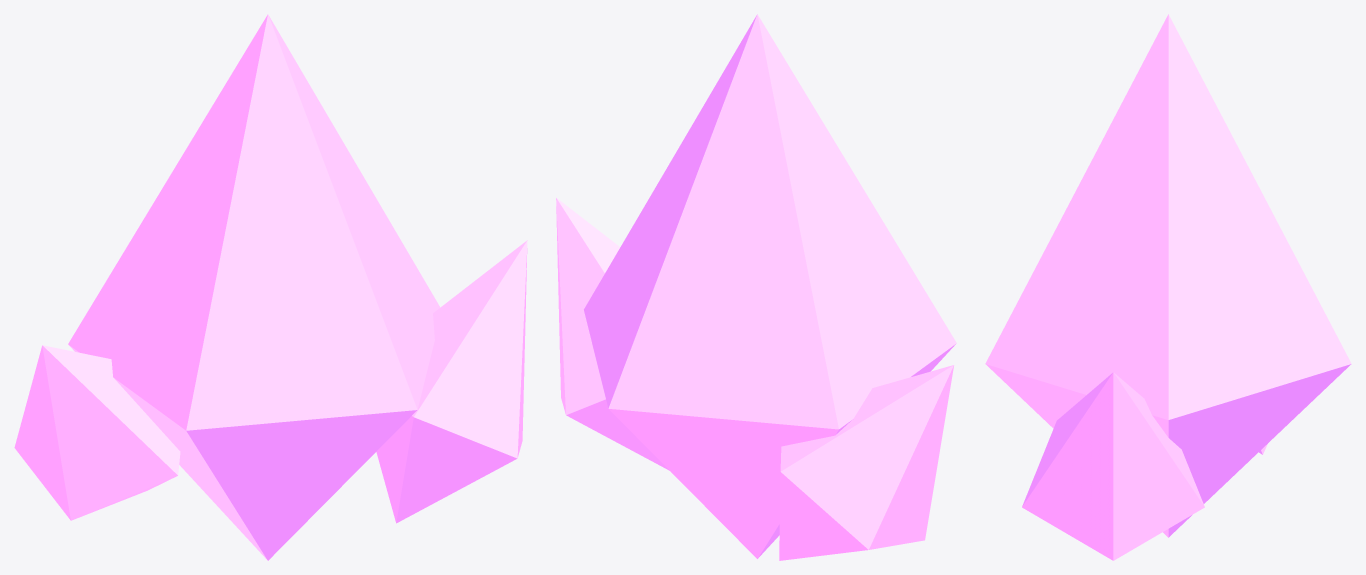
The model's file is voidstone-chunk.glb.
3 renders of one model, left to right at view 1: azimuth 30°, elevation 25°; view 2: azimuth 150°, elevation 25°; view 3: azimuth 270°, elevation 25°, orthographic. The views are drawn at different scales.
Parts seen in each view (by area): view 1: pickup; view 2: pickup; view 3: pickup.
Part boxes in pixels (box(x1,y1,x2,y2)): pickup: box(14, 14, 527, 560); pickup: box(556, 14, 956, 560); pickup: box(985, 14, 1351, 560).
Bounding box in the file's own units: 0.3554 × 0.42 × 0.2663.
